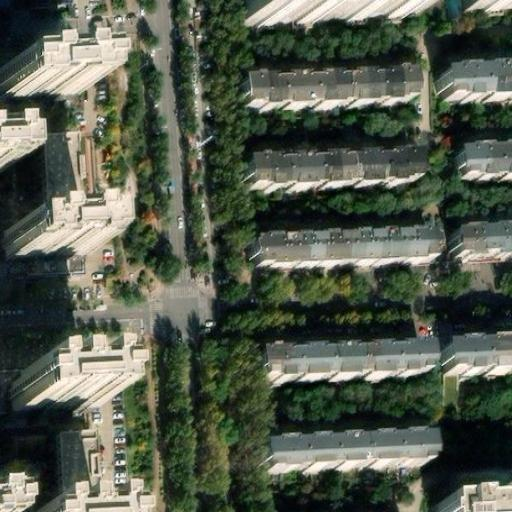building: (244, 227, 420, 267), (237, 148, 412, 187), (249, 349, 419, 387), (231, 66, 405, 103), (249, 438, 417, 476), (1, 383, 91, 424), (0, 237, 78, 272), (434, 67, 512, 101), (35, 144, 71, 214), (0, 79, 74, 113), (438, 344, 512, 378), (446, 225, 512, 260), (446, 140, 512, 174), (432, 495, 512, 512)
